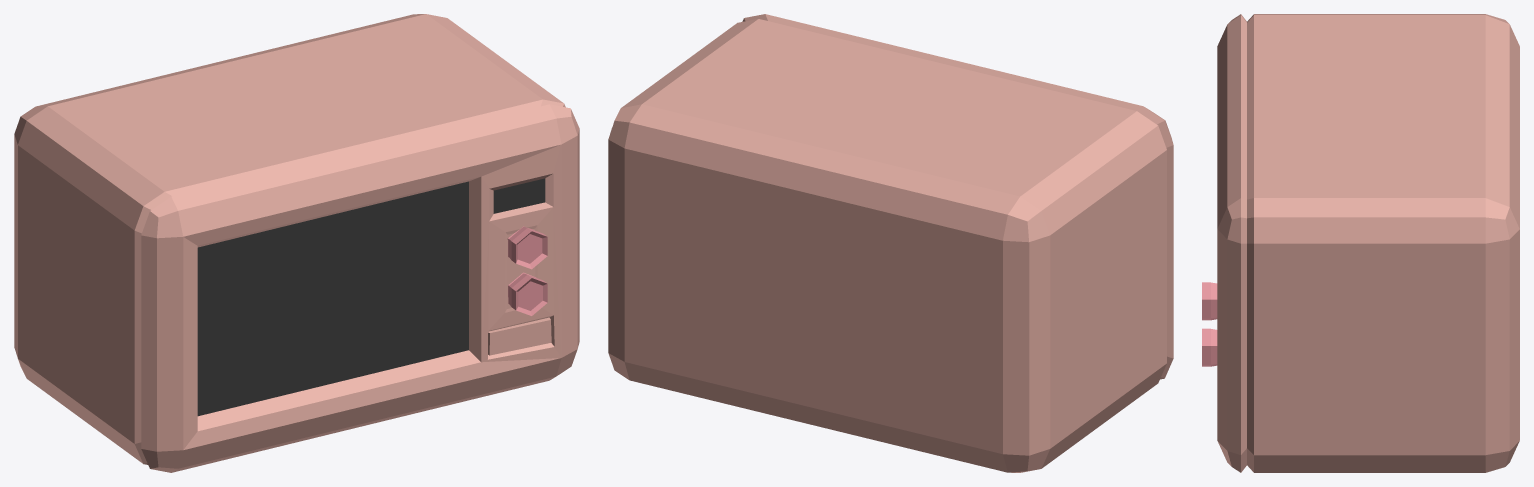
Rendered from Micro.glb.
3 views of the same model, side by side, from view 1: azimuth 30°, elevation 25°; view 2: azimuth 150°, elevation 25°; view 3: azimuth 270°, elevation 25° (orthographic).
Parts seen in each view (by area): view 1: Micro; view 2: Micro; view 3: Micro.
Part boxes in pixels (<box>): Micro: <box>14,14,579,472</box>; Micro: <box>608,14,1173,472</box>; Micro: <box>1202,14,1519,472</box>.
Size of the model in its own units: 0.6464 by 0.3894 by 0.4095.
